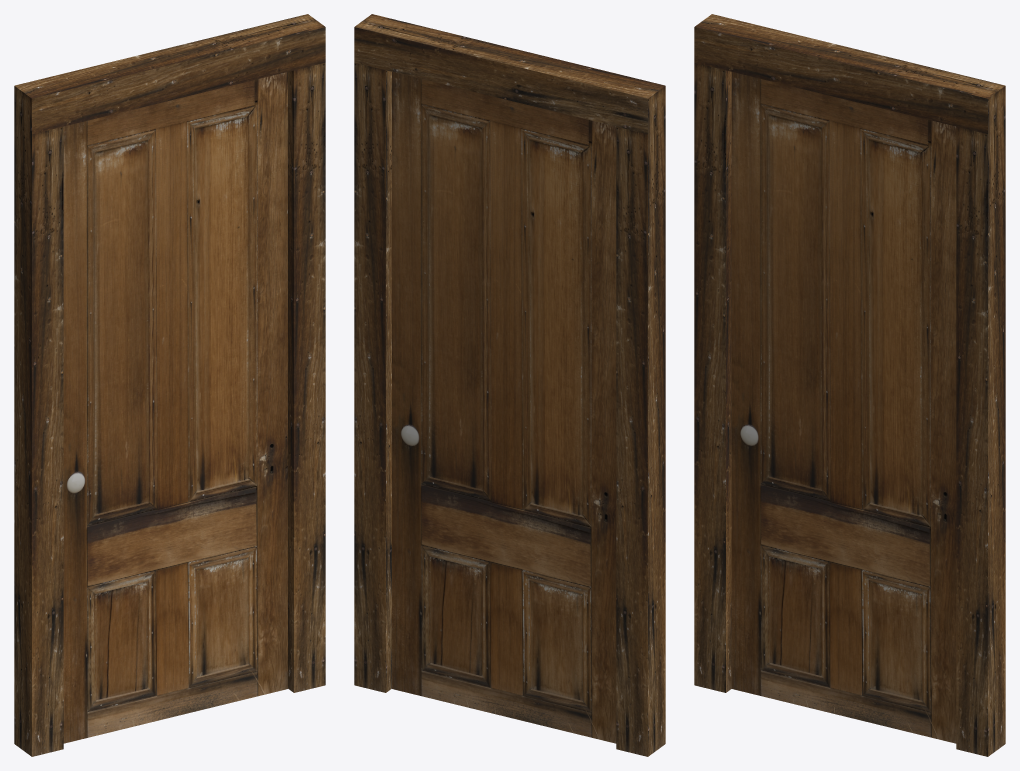
Rendered from Door17.glb.
The picture shows the model from 3 angles, left to right: view 1: azimuth 30°, elevation 25°; view 2: azimuth 150°, elevation 25°; view 3: azimuth 330°, elevation 25°; orthographic projection.
Visible parts, largest first — view 1: Door, Frame; view 2: Door, Frame; view 3: Door, Frame.
Boxes of the visible parts, bbox=[...] form: Door: bbox=[63, 72, 287, 743]; Frame: bbox=[14, 14, 325, 756]; Door: bbox=[392, 72, 616, 743]; Frame: bbox=[354, 14, 665, 756]; Door: bbox=[731, 72, 956, 743]; Frame: bbox=[694, 14, 1005, 756].
Size of the model in its own units: 1.15 by 2.45 by 0.1203.
1 material, 1 textured.
